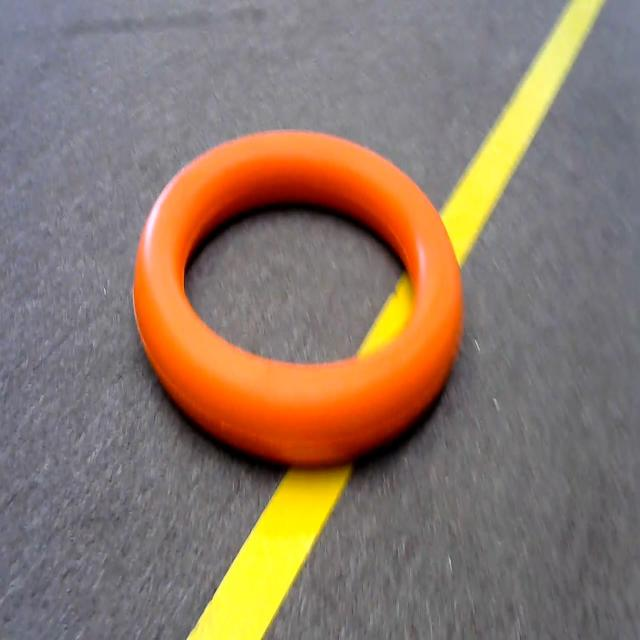note: (118, 94, 510, 495)
